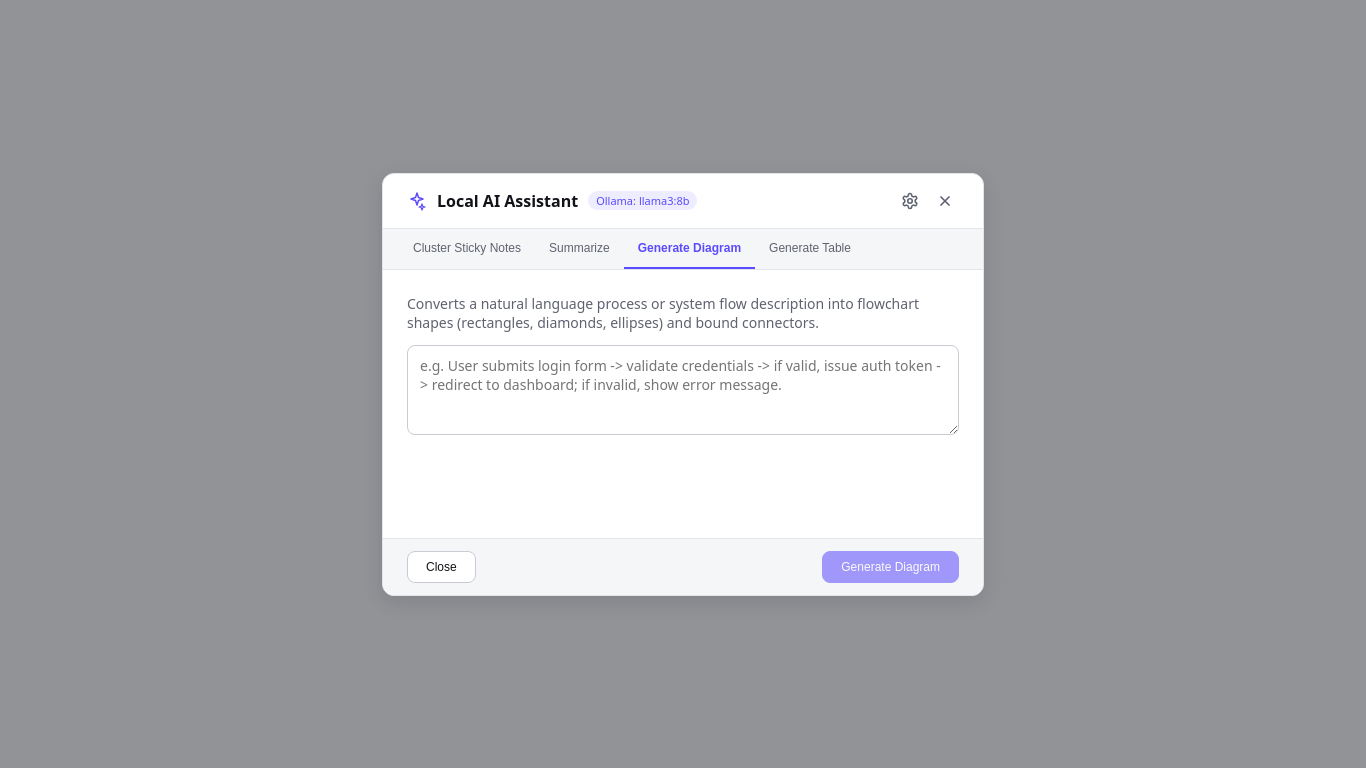
Test: AIAssistantModal UI Component (§10.1) › opens settings modal when clicking the gear icon
The image size is (1366, 768).
Click the button with test id "ai-assistant-settings-btn": click(910, 200) [895,186,925,216]
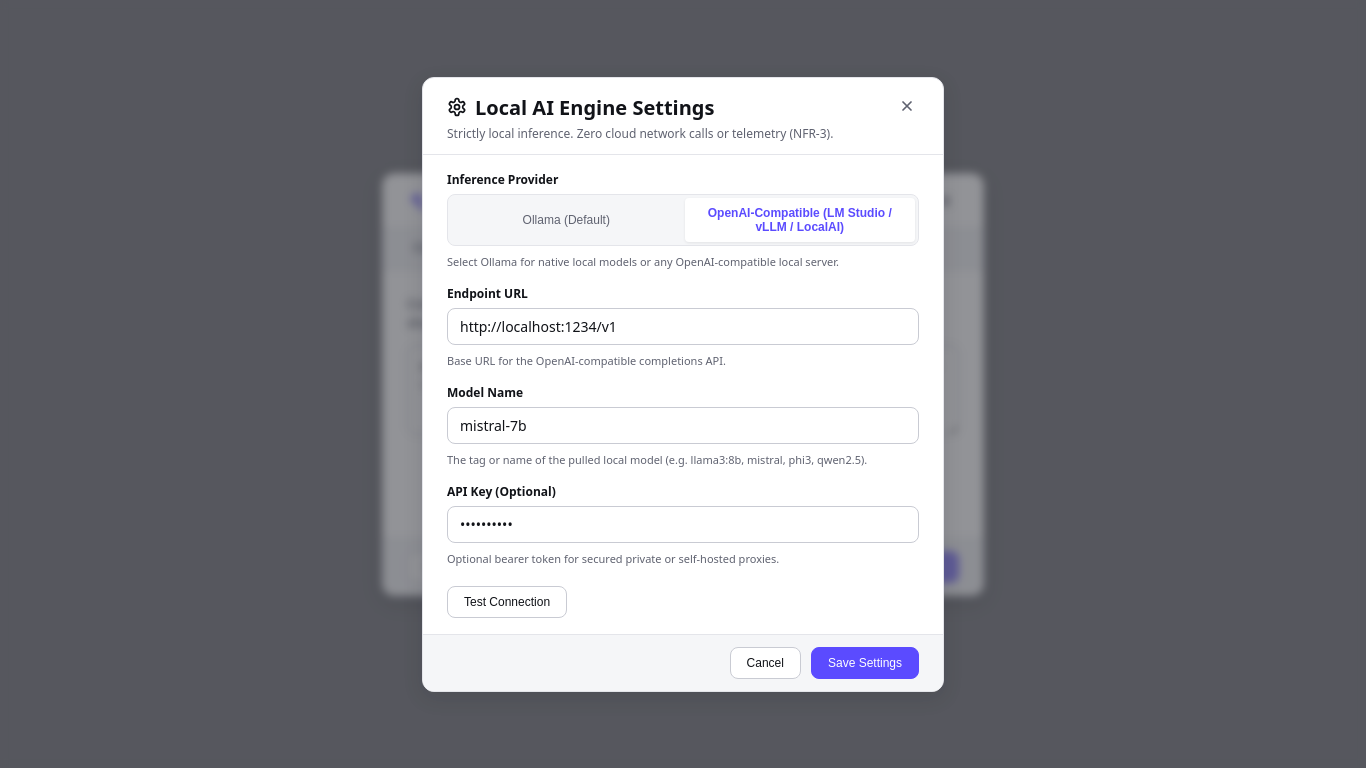
Check: the dialog with test id "ai-settings-modal" is shown, box [422,76,944,692]
